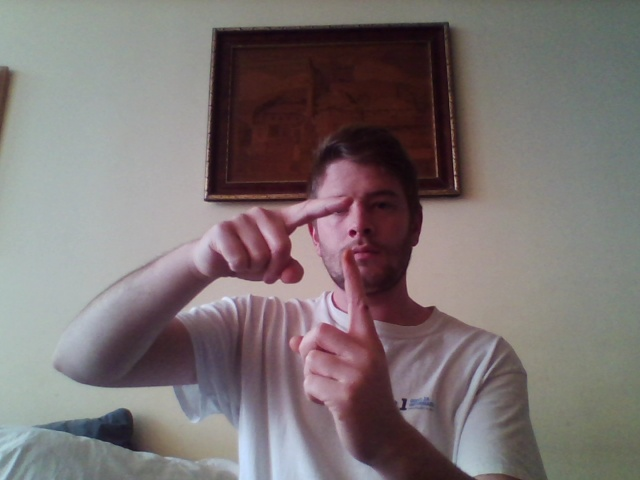kad: (194, 195, 397, 462)
